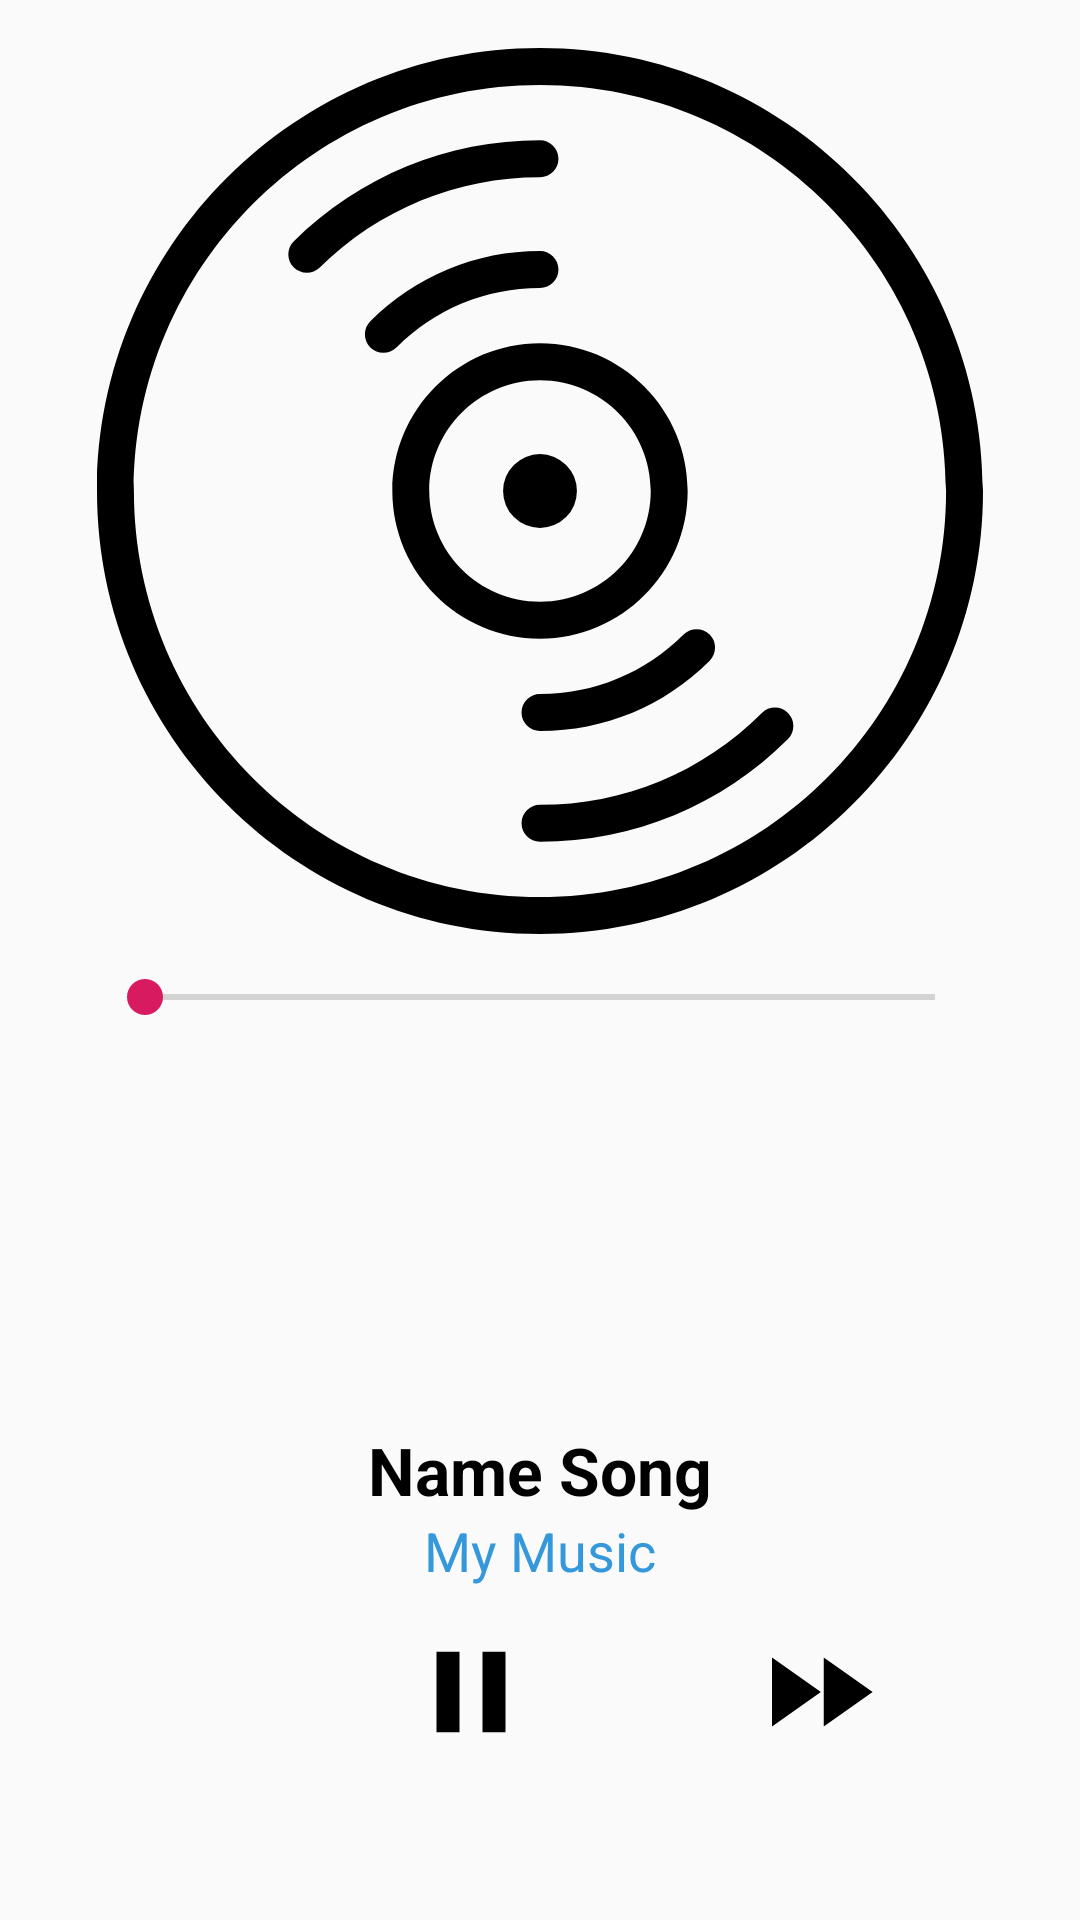

Named icons in this screenshot (1080*1920) and their bounding boxes, (x1, y1, x2, y2):
fast forward: (772, 1657, 873, 1727)
pause: (436, 1651, 506, 1733)
